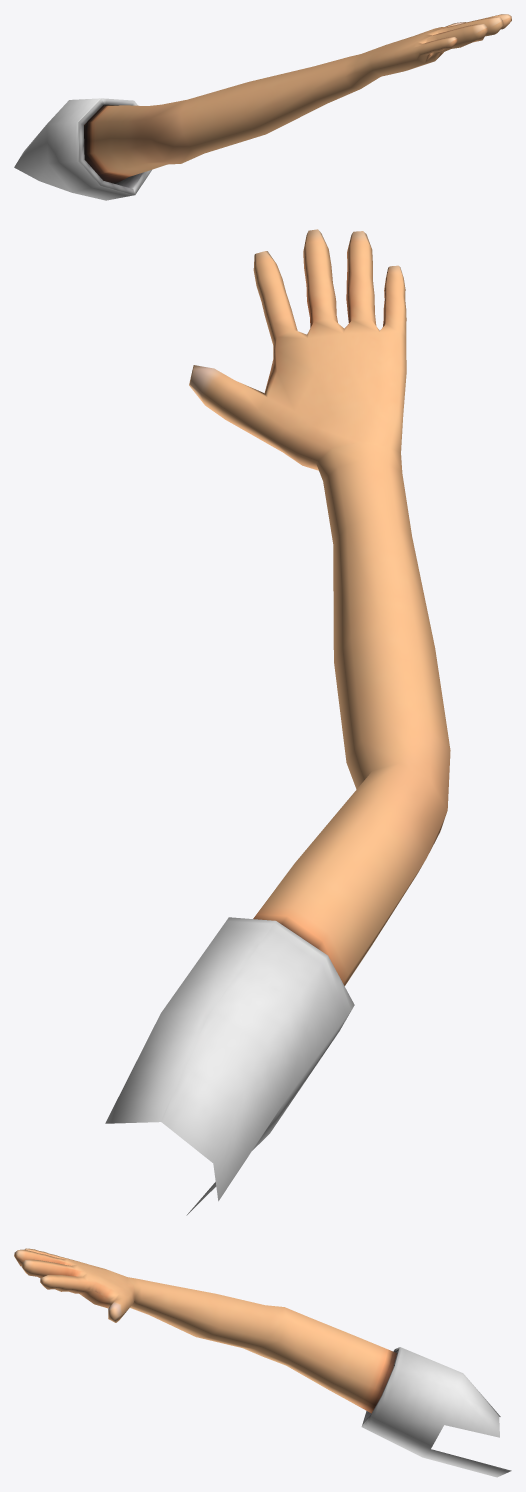
The model's file is nurse_standing_waving_arm.glb.
3 views of the same model, one above another, from view 1: azimuth 30°, elevation 25°; view 2: azimuth 150°, elevation 25°; view 3: azimuth 270°, elevation 25° (orthographic). The views are drawn at different scales.
Visible parts, largest first — view 1: world; view 2: world; view 3: world.
Part boxes in pixels (x1,y1,x2,y2): world: (14,14,511,200); world: (105,229,450,1215); world: (14,1248,511,1477).
Bounding box in the file's own units: 0.2433 × 0.3076 × 0.4813.
1 material, 1 textured.
